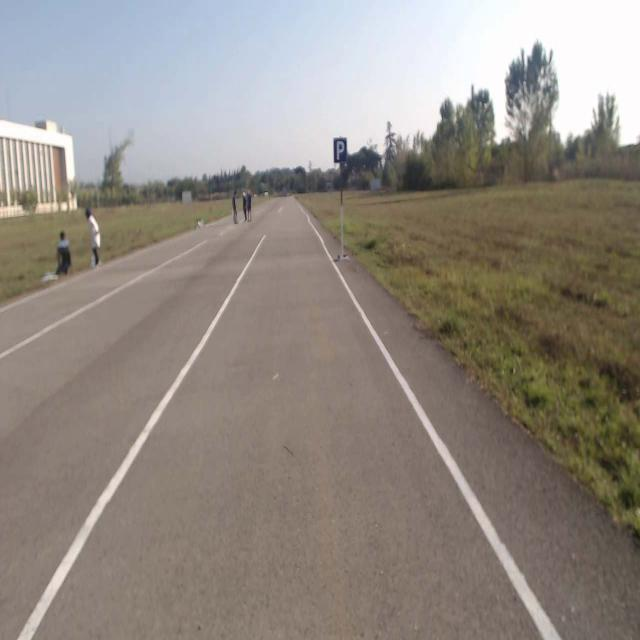park: (334, 138, 347, 162)
